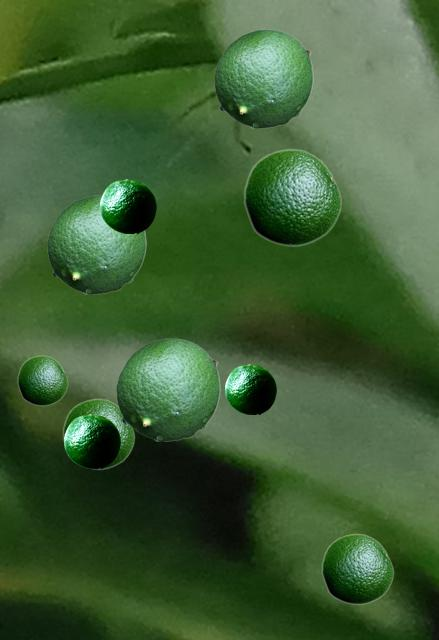calamansi: (116, 338, 219, 440), (47, 195, 145, 293), (214, 29, 312, 127), (243, 148, 341, 246), (62, 398, 134, 469), (321, 533, 393, 604), (64, 414, 119, 467), (100, 179, 155, 232), (17, 355, 67, 405), (225, 364, 275, 413)
